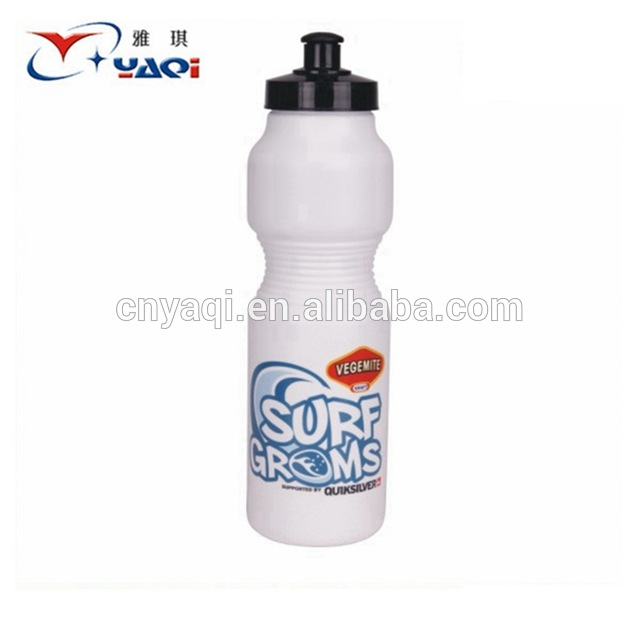Rec_Plastic: (219, 25, 414, 552)
